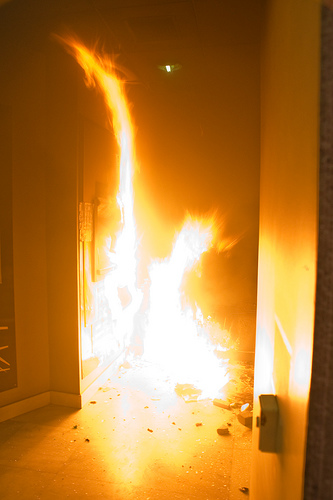fire: (56, 34, 234, 393)
